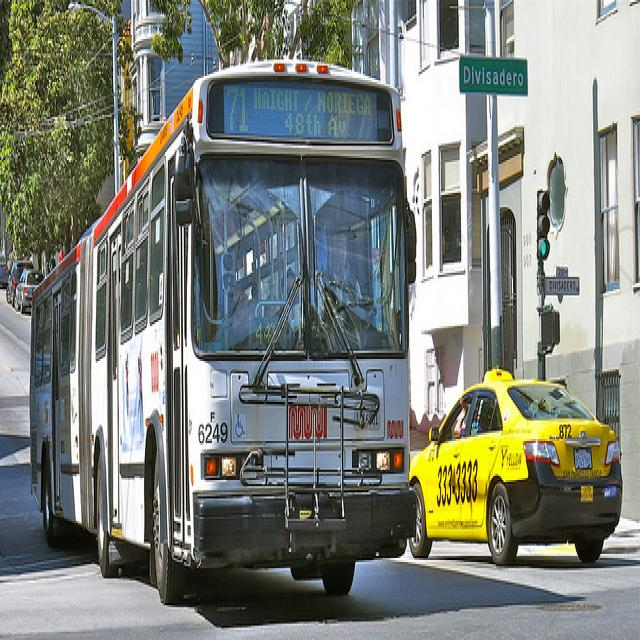AB: (24, 43, 419, 609)
